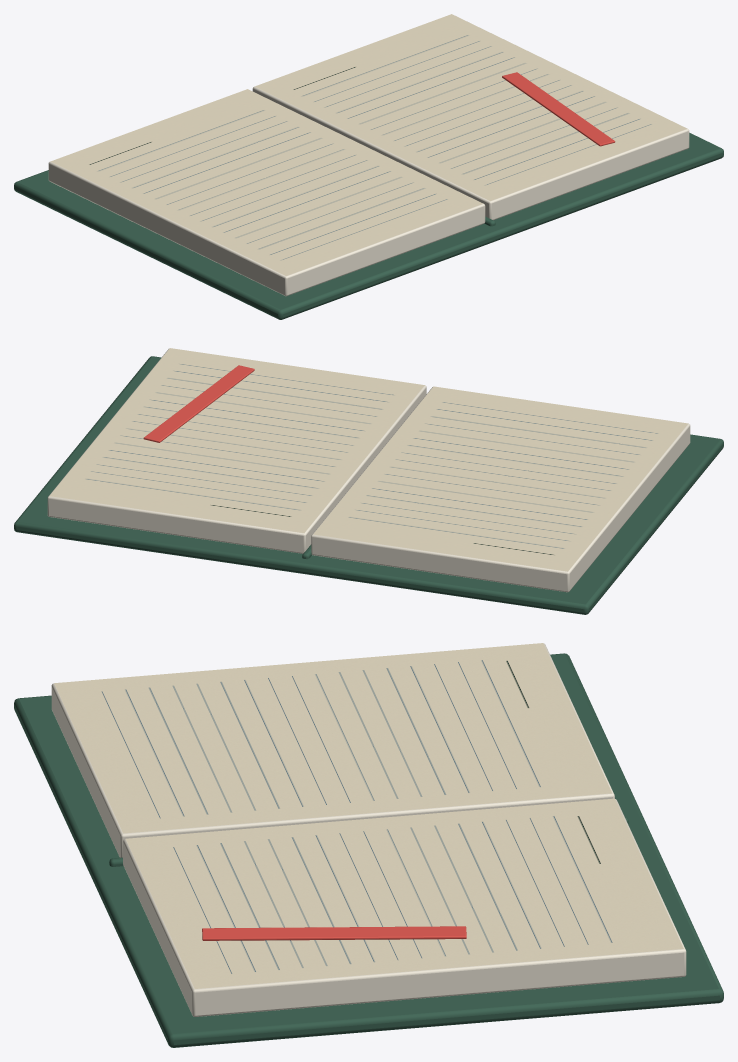
The model's file is notebook.glb.
3 renders of one model, top to bottom at view 1: azimuth 30°, elevation 25°; view 2: azimuth 150°, elevation 25°; view 3: azimuth 270°, elevation 25°, orthographic. The views are drawn at different scales.
Visible parts, largest first — view 1: nb_page_l, nb_page_r, nb_cover, nb_block_l, nb_block_r, nb_ribbon; view 2: nb_page_l, nb_page_r, nb_cover, nb_block_l, nb_block_r, nb_ribbon; view 3: nb_page_l, nb_page_r, nb_cover, nb_block_r, nb_block_l, nb_ribbon.
Part boxes in pixels (<box>): nb_page_l: <box>50,89,482,275</box>; nb_page_r: <box>255,14,686,200</box>; nb_cover: <box>14,132,723,319</box>; nb_block_l: <box>48,92,485,296</box>; nb_block_r: <box>252,16,689,220</box>; nb_ribbon: <box>502,72,615,146</box>; nb_page_l: <box>313,386,688,571</box>; nb_page_r: <box>50,348,424,532</box>; nb_cover: <box>14,356,723,614</box>; nb_block_l: <box>311,387,690,592</box>; nb_block_r: <box>47,348,426,553</box>; nb_ribbon: <box>143,365,254,442</box>; nb_page_l: <box>54,643,611,833</box>; nb_page_r: <box>126,798,683,988</box>; nb_cover: <box>14,653,723,1047</box>; nb_block_r: <box>123,799,686,1016</box>; nb_block_l: <box>51,643,614,857</box>; nb_ribbon: <box>202,926,466,940</box>.
Size of the model in its own units: 0.3612 by 0.0198 by 0.2821.
4 materials, 1 textured.
